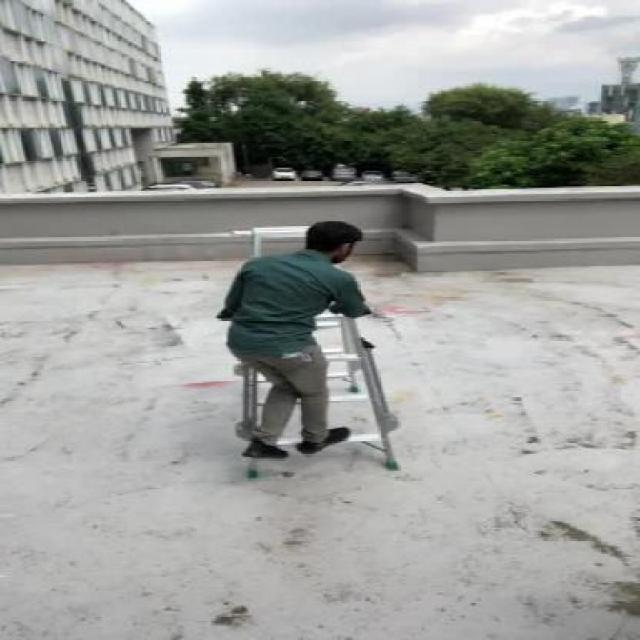hard hat: (228, 220, 426, 482)
vest: (210, 217, 390, 457)
